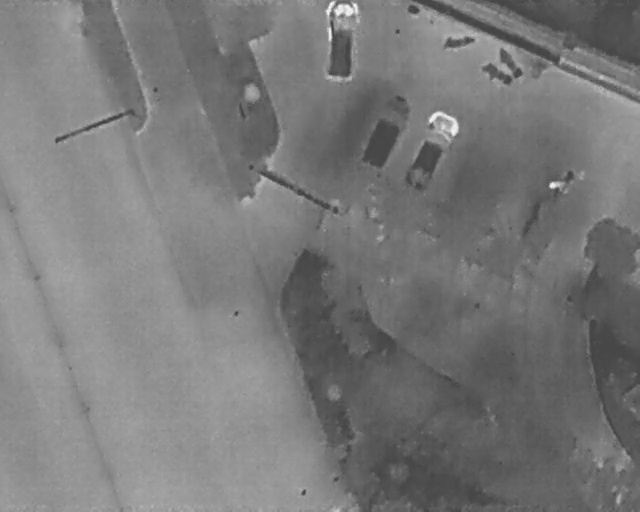Bicycle: (477, 56, 517, 92), (492, 41, 526, 82), (554, 165, 579, 199), (441, 31, 479, 51)
Car: (395, 104, 461, 198), (354, 87, 419, 177), (322, 0, 360, 84)
Person: (548, 178, 562, 190)
